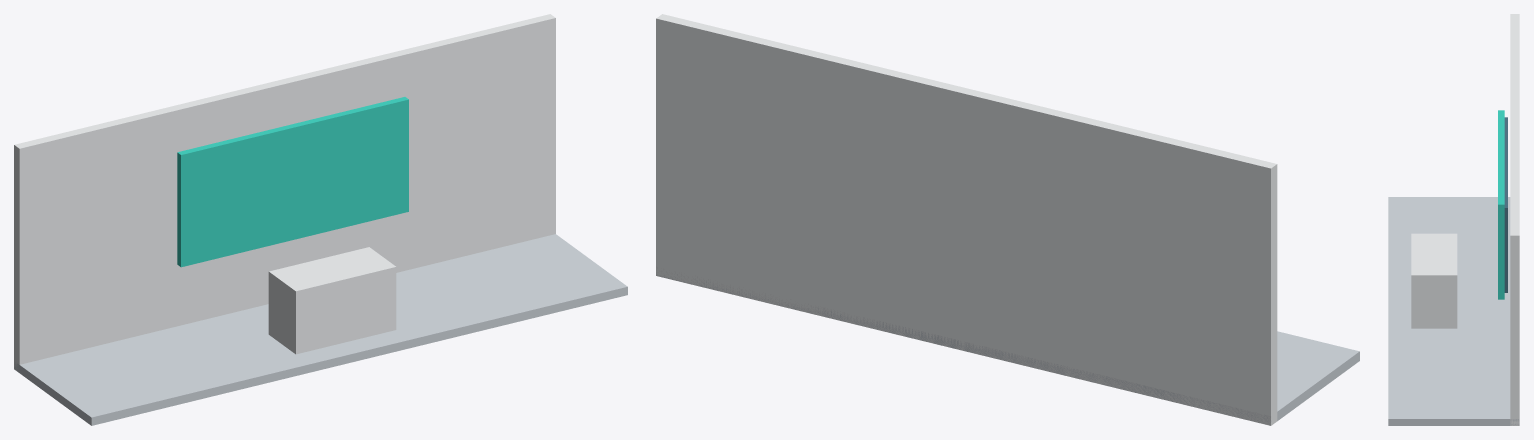
3 renders of one model, left to right at view 1: azimuth 30°, elevation 25°; view 2: azimuth 150°, elevation 25°; view 3: azimuth 270°, elevation 25°, orthographic. The views are drawn at different scales.
Parts seen in each view (by area): view 1: Exhibition Booth Concept; view 2: Exhibition Booth Concept; view 3: Exhibition Booth Concept.
Boxes of the visible parts, x1=… form: Exhibition Booth Concept: x1=14, y1=14, x2=627, y2=425; Exhibition Booth Concept: x1=656, y1=14, x2=1359, y2=425; Exhibition Booth Concept: x1=1388, y1=14, x2=1519, y2=425.
Size of the model in its own units: 8 by 3.2 by 2.
